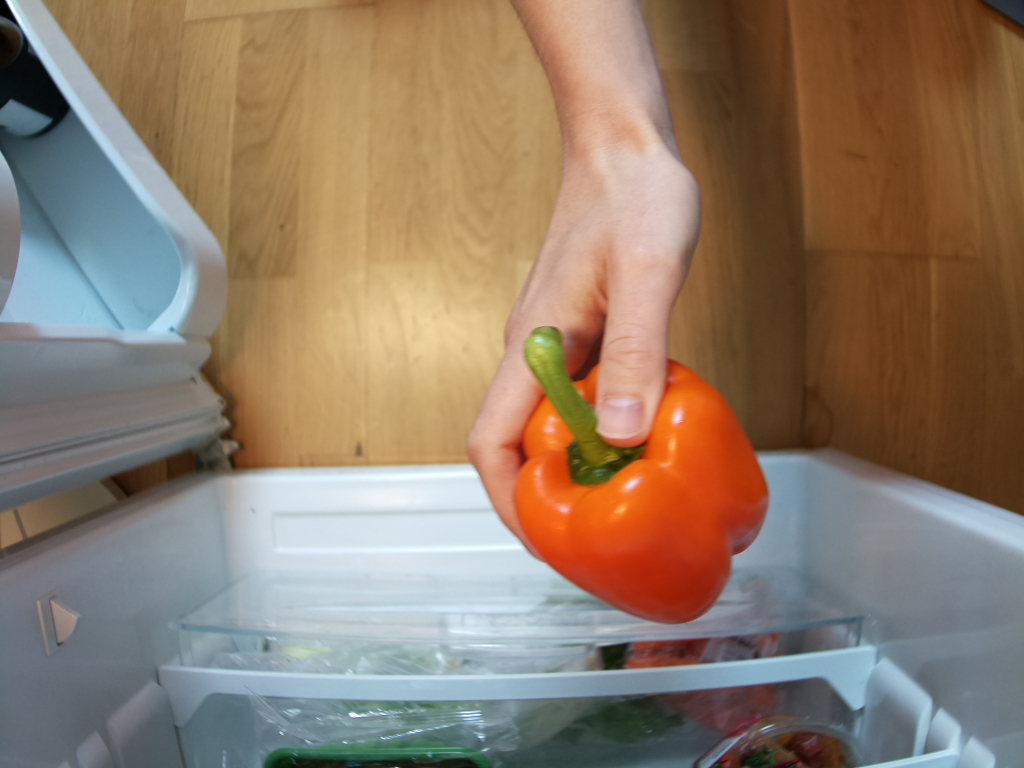pepper: (513, 321, 772, 628)
